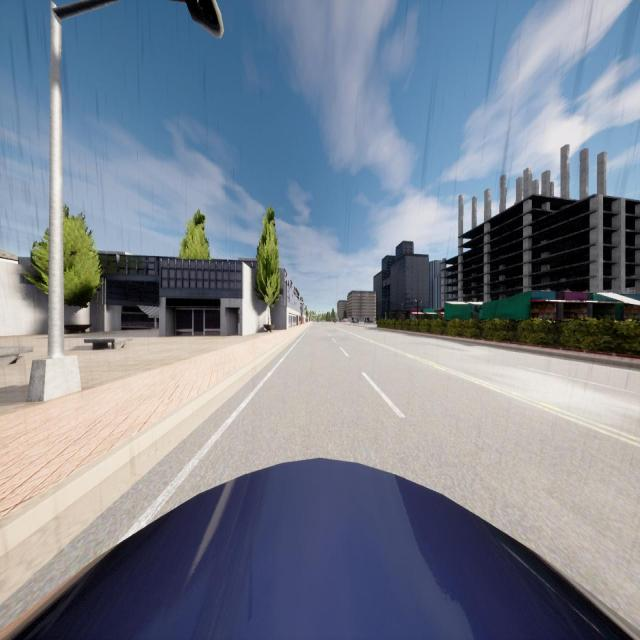Vehicle: (0, 456, 639, 640), (364, 317, 374, 323), (352, 317, 359, 323)
